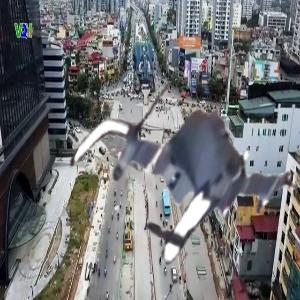drone: (71, 65, 297, 291)
